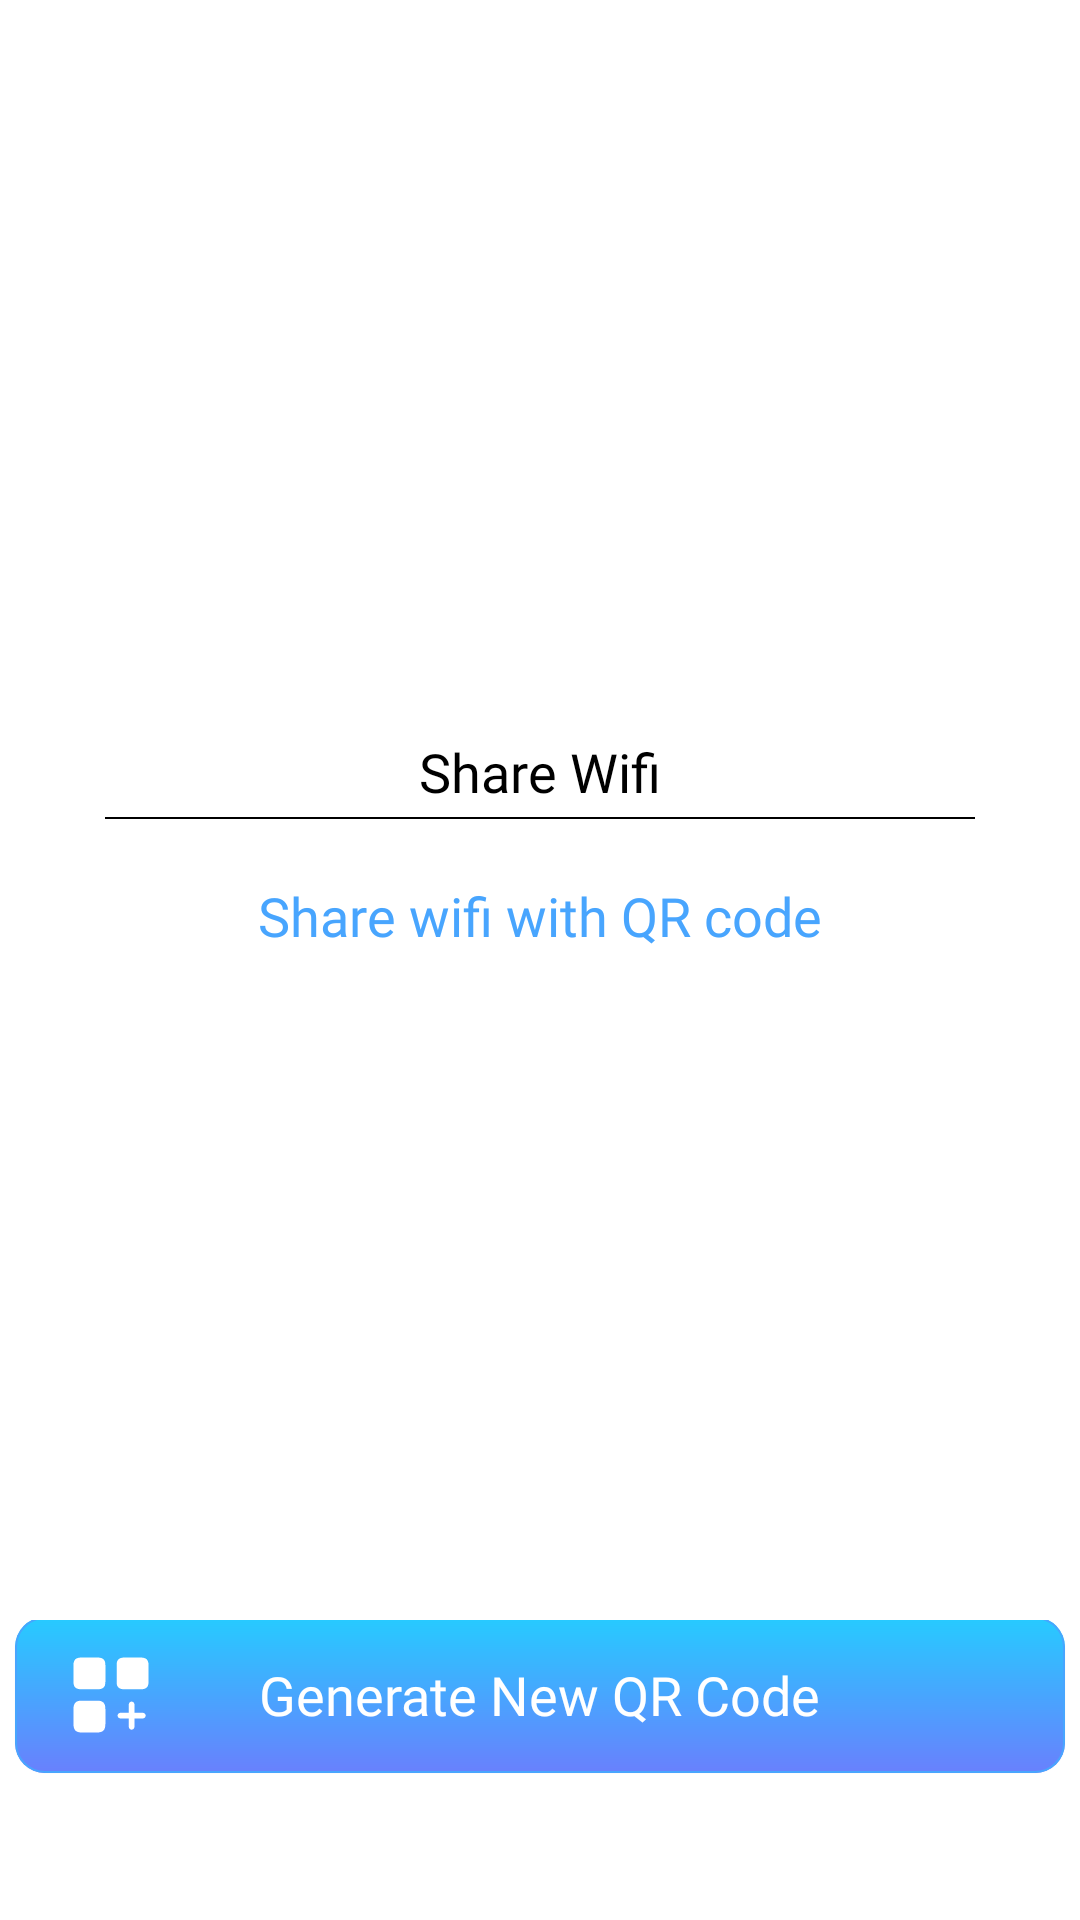

Where to tap for icons on this 1080 × 1920 app screen, as point (x, y):
element plus: point (111, 1695)
